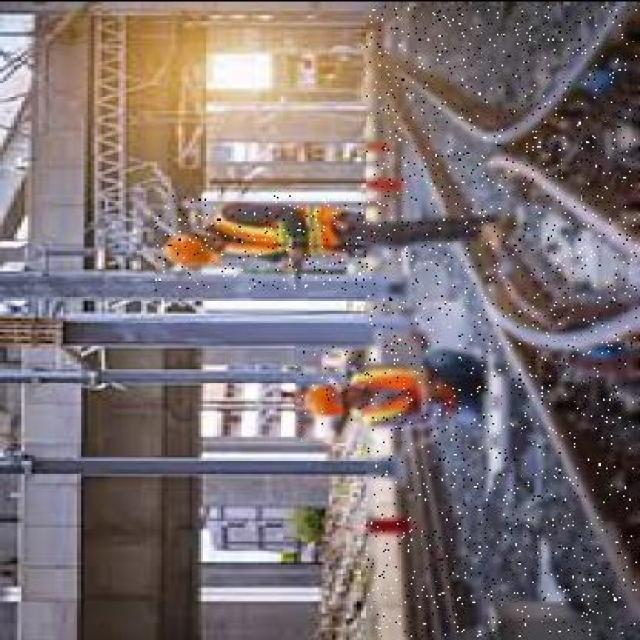danger: (156, 194, 517, 288), (297, 343, 477, 440)
rail: (367, 5, 637, 632)
